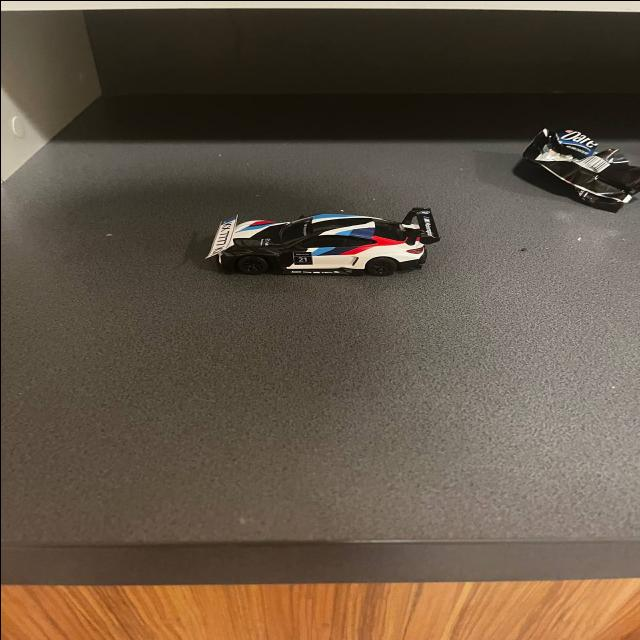cars: (195, 195, 445, 280)
